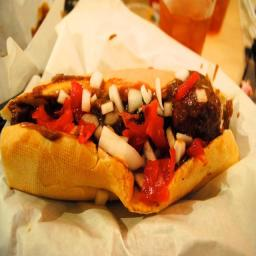hotdog: (0, 66, 244, 234)
